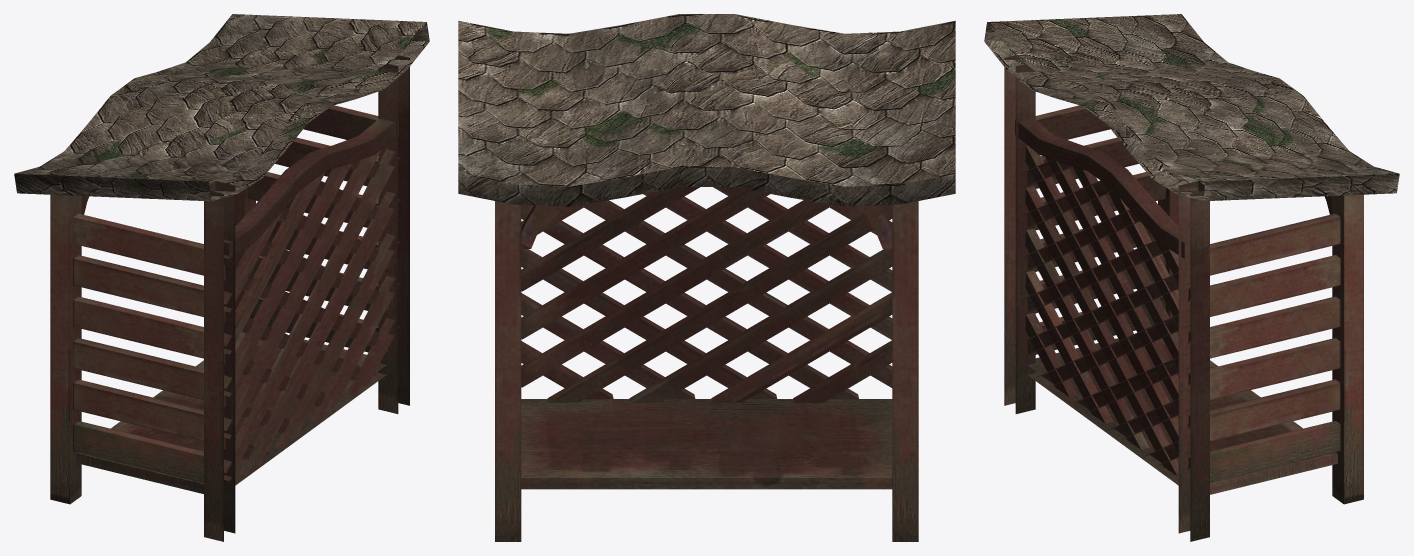
The model's file is bldg_03_garden_cottage.glb.
3 views of the same model, side by side, from view 1: azimuth 30°, elevation 25°; view 2: azimuth 150°, elevation 25°; view 3: azimuth 270°, elevation 25° (orthographic). The views are drawn at different scales.
Parts seen in each view (by area): view 1: GardenCottage; view 2: GardenCottage; view 3: GardenCottage.
Boxes of the visible parts, bbox=[...] form: GardenCottage: bbox=[14, 14, 429, 541]; GardenCottage: bbox=[458, 14, 955, 541]; GardenCottage: bbox=[984, 14, 1399, 541].
Size of the model in its own units: 2.83 by 2.41 by 2.4.
3 materials, 3 textured.
